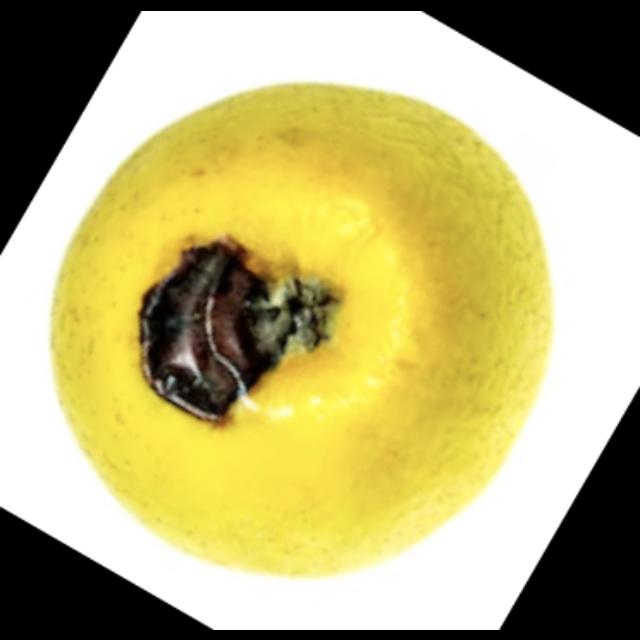Apel Tidak Segar: (45, 75, 562, 582)
